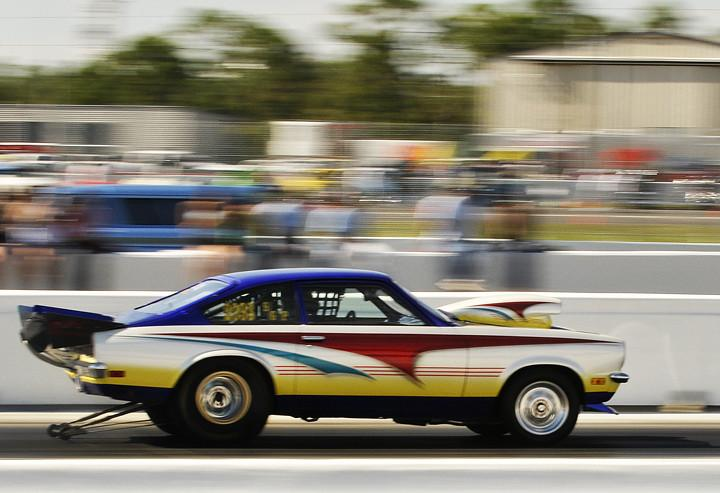car: (20, 268, 631, 446)
